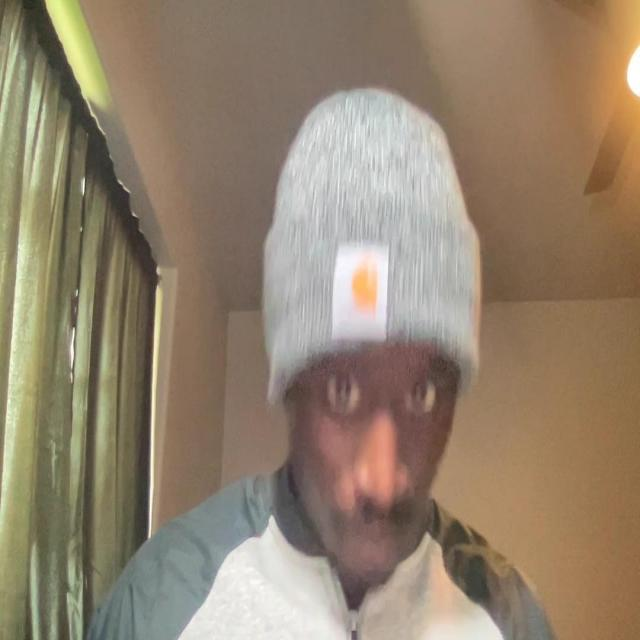face: (282, 313, 468, 580)
